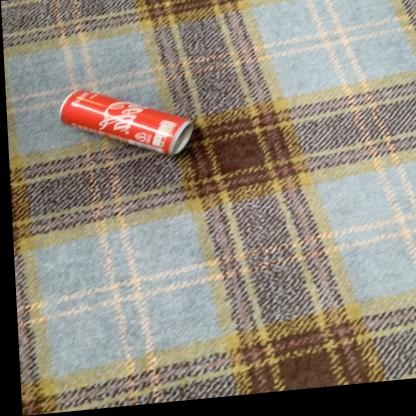trash: (60, 89, 192, 154)
